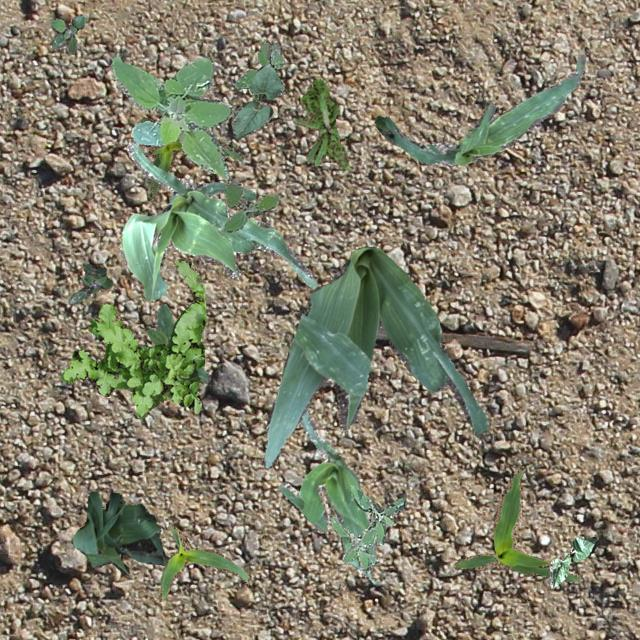crop: (261, 246, 488, 467), (118, 142, 316, 300), (373, 54, 584, 164), (278, 408, 374, 578), (454, 464, 582, 582), (140, 116, 242, 200), (70, 491, 168, 576), (156, 522, 250, 600), (230, 63, 280, 138), (548, 536, 596, 586)
weed: (60, 256, 204, 418), (110, 56, 232, 178), (328, 483, 406, 572), (292, 78, 348, 170), (146, 304, 210, 382), (223, 176, 280, 232), (234, 41, 284, 92), (68, 262, 110, 302), (50, 14, 86, 54)
